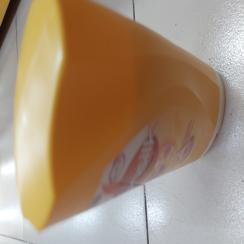sunsilk yellow: (16, 1, 224, 235)
